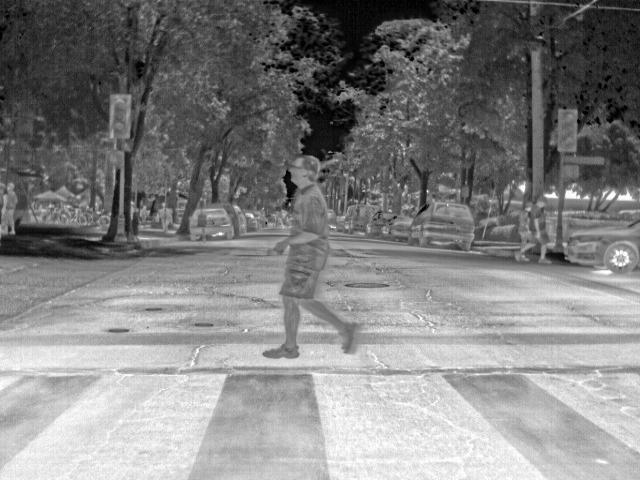car: (565, 218, 639, 276), (410, 199, 477, 251), (189, 208, 233, 245), (340, 200, 382, 234), (366, 209, 394, 236), (389, 215, 412, 241), (233, 204, 247, 234)
person: (264, 153, 361, 360), (511, 204, 534, 266), (531, 198, 549, 265), (5, 182, 19, 238), (154, 200, 174, 232)
